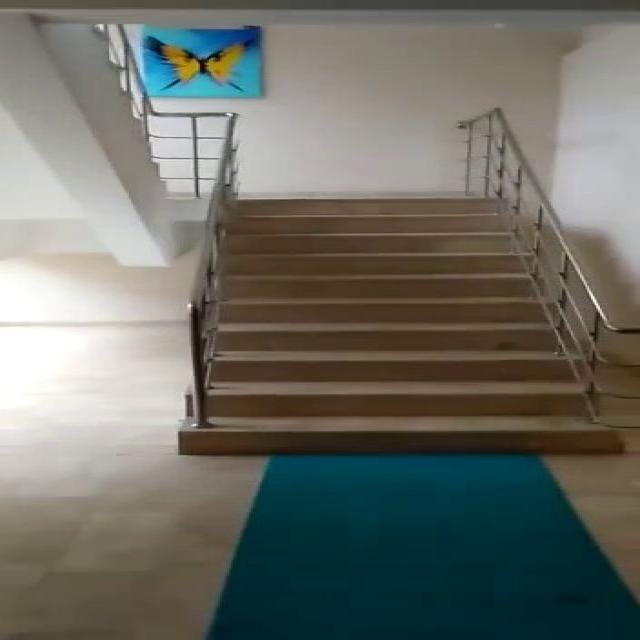stairs: (177, 195, 626, 455)
